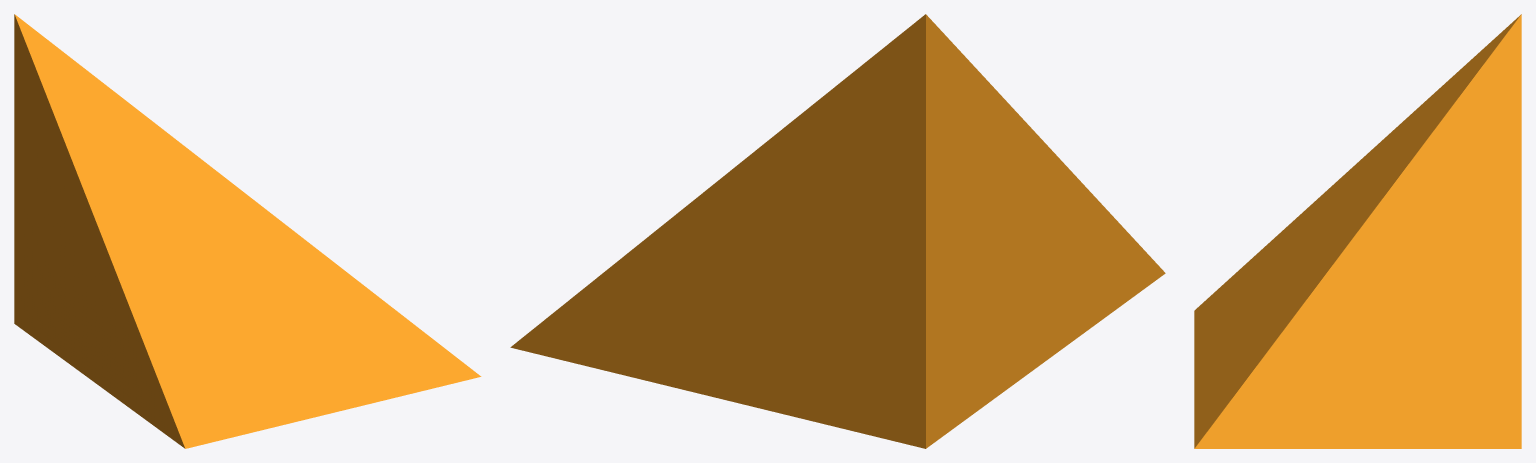
The model's file is SM_Buildings_Ramp_Corner_1x1_01.fbx.
3 views of the same model, side by side, from view 1: azimuth 30°, elevation 25°; view 2: azimuth 150°, elevation 25°; view 3: azimuth 270°, elevation 25° (orthographic). The views are drawn at different scales.
Parts seen in each view (by area): view 1: SM_Buildings_Ramp_Corner_1x1_01; view 2: SM_Buildings_Ramp_Corner_1x1_01; view 3: SM_Buildings_Ramp_Corner_1x1_01.
Boxes of the visible parts, left/top/right/bottom form: SM_Buildings_Ramp_Corner_1x1_01: left=14, top=14, right=481, bottom=448; SM_Buildings_Ramp_Corner_1x1_01: left=510, top=14, right=1165, bottom=448; SM_Buildings_Ramp_Corner_1x1_01: left=1194, top=14, right=1521, bottom=448.
Bounding box in the file's own units: 100 × 100 × 100.
